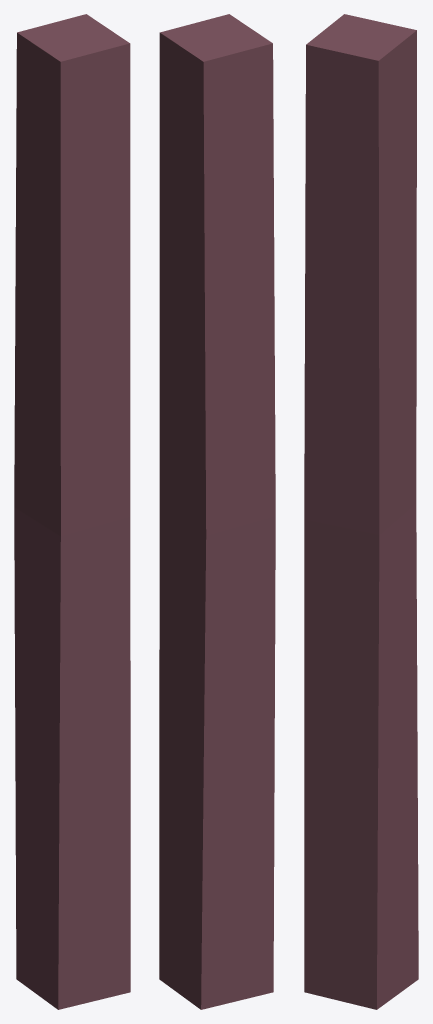
The model's file is Pillar1.fbx.
3 views of the same model, side by side, from view 1: azimuth 30°, elevation 25°; view 2: azimuth 210°, elevation 25°; view 3: azimuth 330°, elevation 25° (orthographic).
Visible parts, largest first — view 1: Pillar1; view 2: Pillar1; view 3: Pillar1.
Boxes of the visible parts, <box> form: Pillar1: <box>14,14,130,1009</box>; Pillar1: <box>159,14,275,1009</box>; Pillar1: <box>304,14,418,1009</box>.
Size of the model in its own units: 11.21 by 132 by 11.21.
